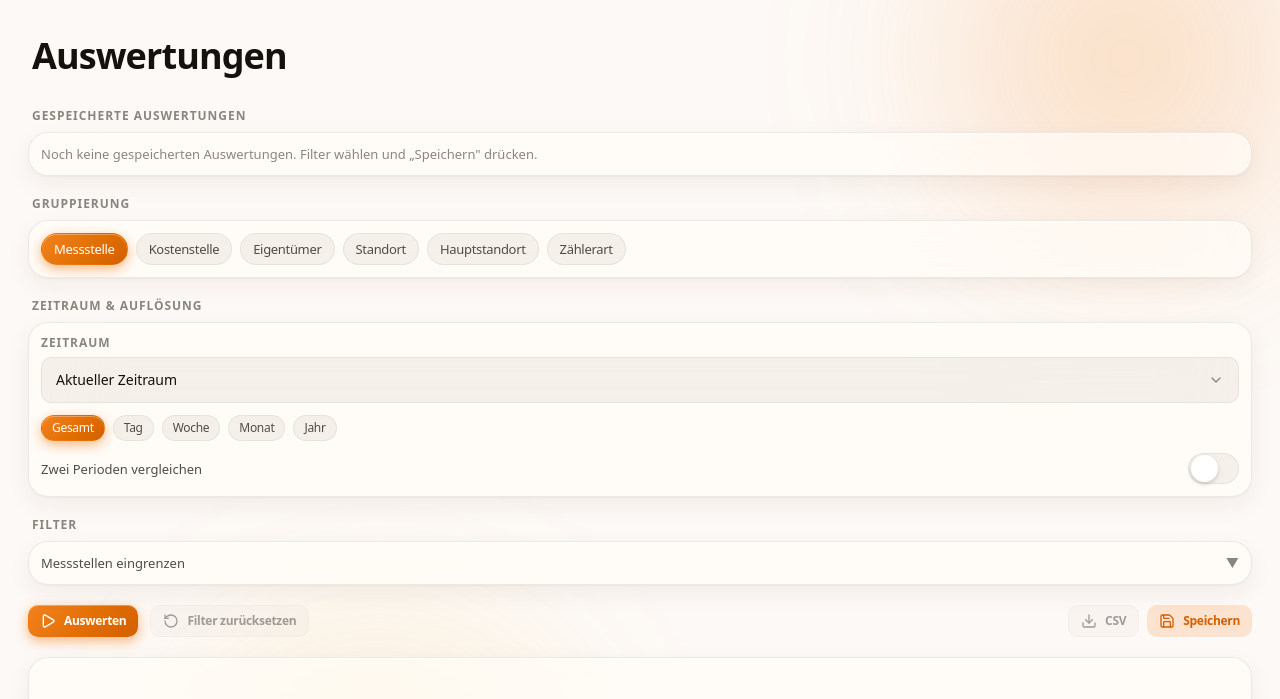
ReportsPage — explizites Auswerten › rendert die Ergebnis-Tabelle nach „Auswerten"
Click the button "Auswerten": (83, 621) 28,605 -> 138,637
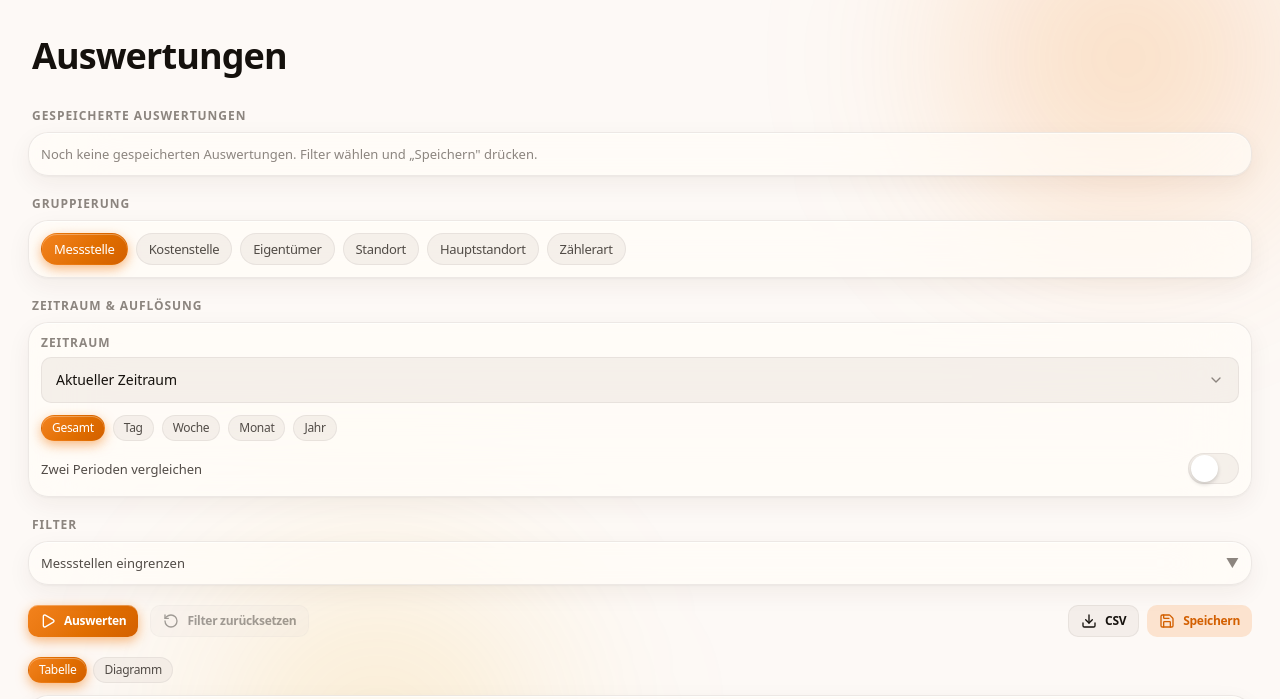
expect the button "CSV" is enabled: met, box 1068,605 -> 1139,637
